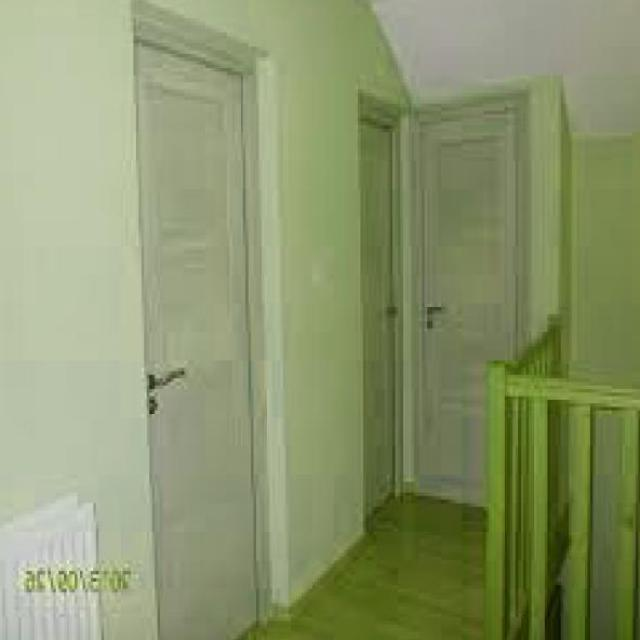door: (132, 24, 261, 638), (413, 100, 518, 506), (356, 104, 398, 528)
